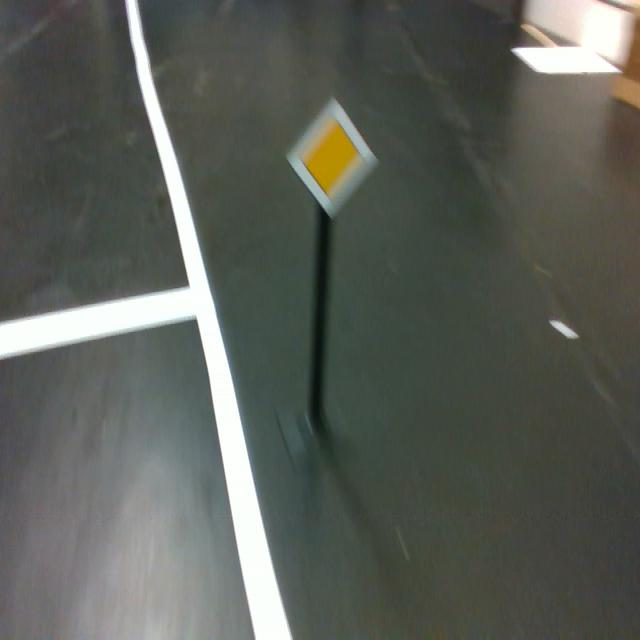priority-sign: (286, 96, 381, 222)
